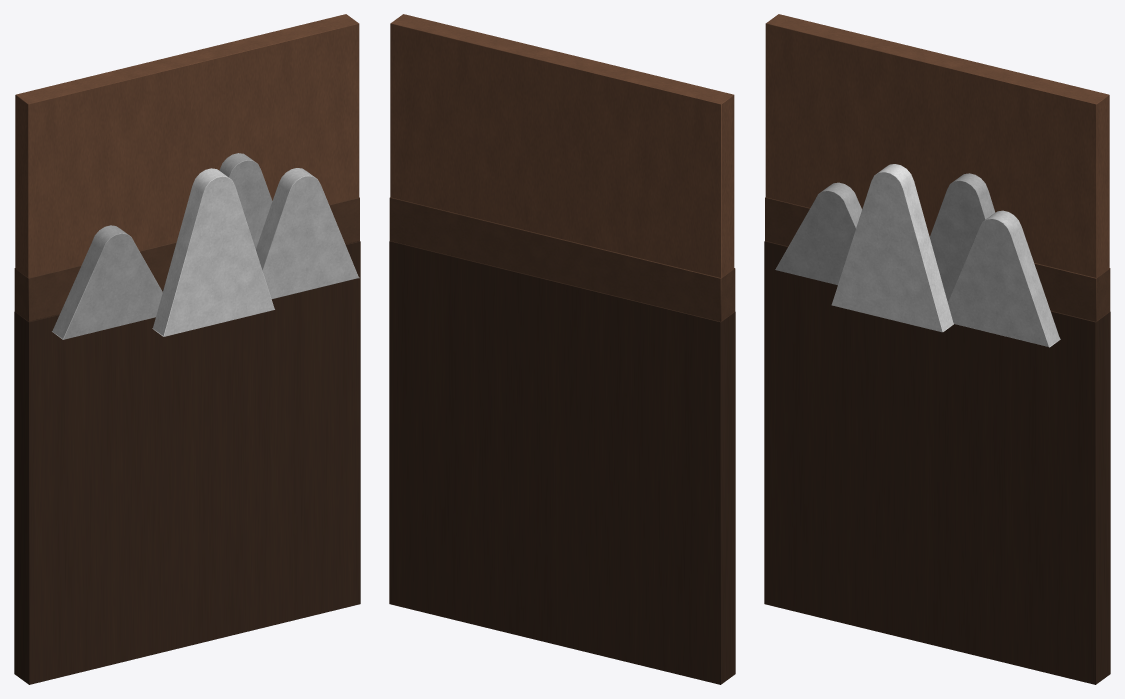
File: ravijn_level4.glb
The picture shows the model from 3 angles, left to right: view 1: azimuth 30°, elevation 25°; view 2: azimuth 150°, elevation 25°; view 3: azimuth 330°, elevation 25°; orthographic projection.
Visible parts, largest first — view 1: ravijn_L4_01; view 2: ravijn_L4_01; view 3: ravijn_L4_01.
Part boxes in pixels (<box>): ravijn_L4_01: <box>14,14,360,684</box>; ravijn_L4_01: <box>389,14,735,684</box>; ravijn_L4_01: <box>764,14,1110,684</box>.
Size of the model in its own units: 3.59 by 6.01 by 0.91.
Materials: 6 (6 with a texture image).
